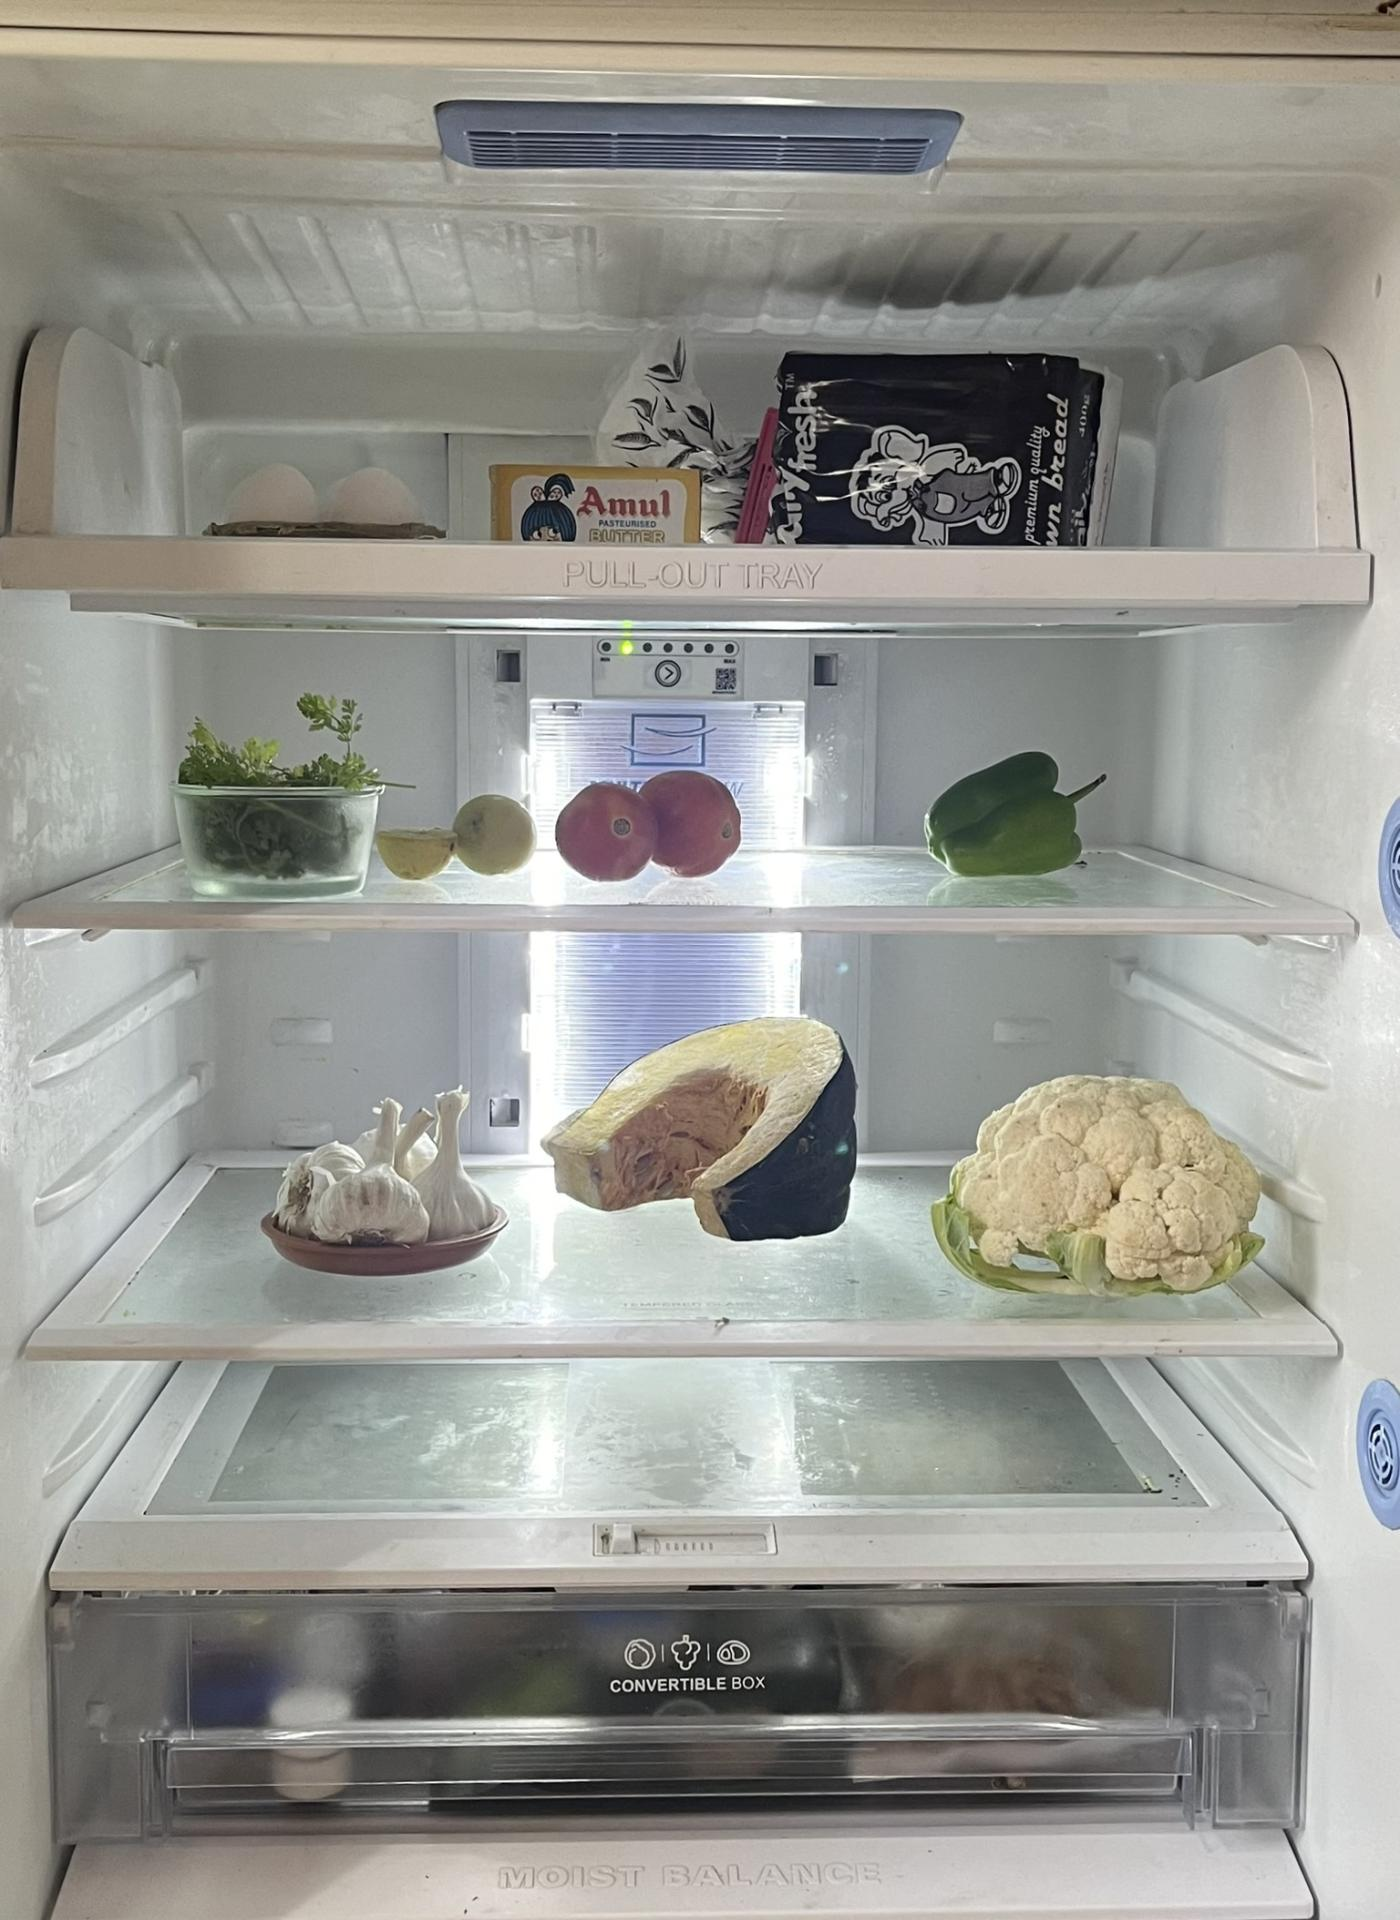bread: (619, 352, 1114, 552)
butter: (499, 467, 713, 544)
capsicum: (933, 747, 1100, 881)
cauliflower: (936, 1066, 1269, 1285)
coriander: (182, 690, 379, 875)
egg: (210, 465, 426, 529)
garlic: (277, 1081, 496, 1260)
lemon: (377, 790, 532, 874)
pumpkin: (547, 1003, 862, 1236)
tomato: (559, 763, 742, 878)
